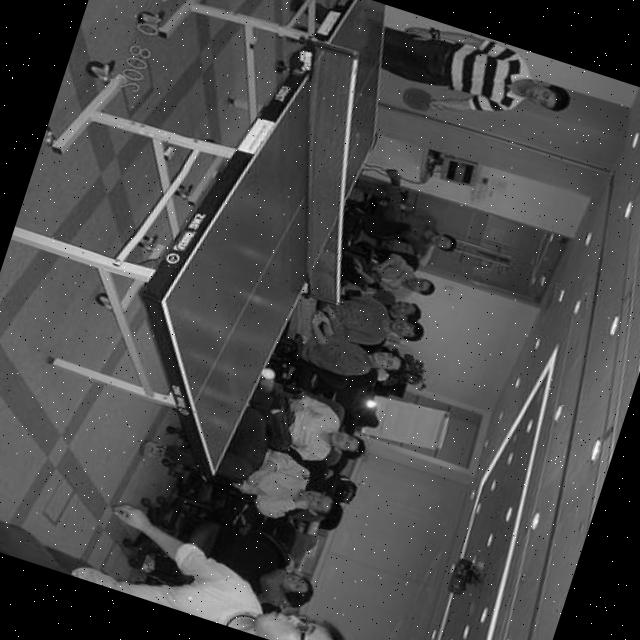ping-pong-ball: (256, 365, 278, 382)
